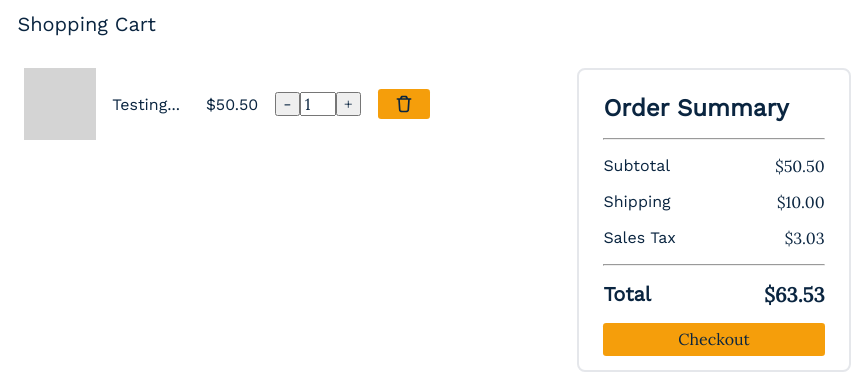
Test: CheckoutCard › should remove an item from Cart if 'Trash' button is clicked
This screenshot has width=868, height=389.
Click the button with test id "trash-button". click: (404, 104)
box: [378,89,430,119]
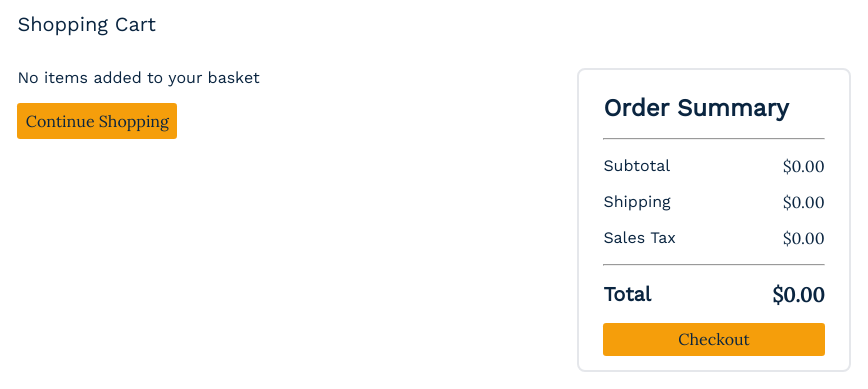
Now the button with test id "trash-button" is gone
